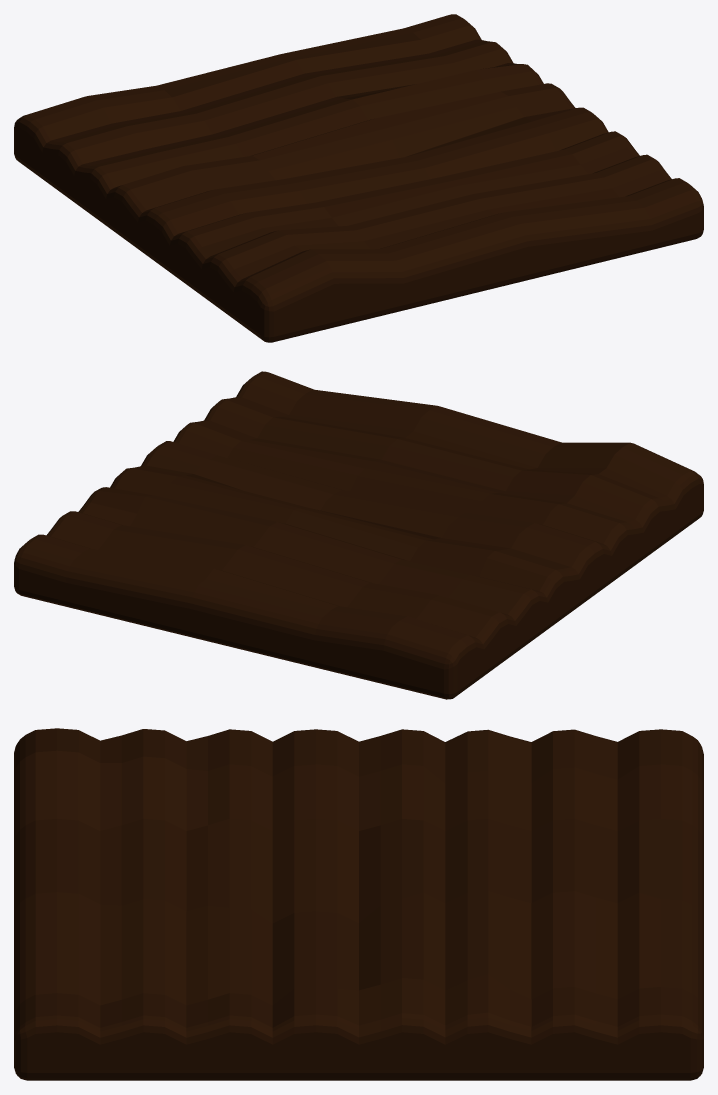
File: plantação.fbx
3 views of the same model, one above another, from view 1: azimuth 30°, elevation 25°; view 2: azimuth 150°, elevation 25°; view 3: azimuth 270°, elevation 25° (orthographic). The views are drawn at different scales.
Parts seen in each view (by area): view 1: Cube; view 2: Cube; view 3: Cube.
Boxes of the visible parts, x1,y1,x2,y2 form: Cube: (14,14,703,342); Cube: (14,371,703,699); Cube: (14,728,703,1080).
Size of the model in its own units: 200 by 28.25 by 200.
Materials: 1 (1 with a texture image).
